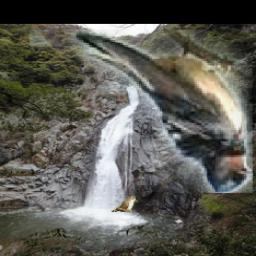Cuckoo: (112, 197, 137, 213)
Swallow: (30, 31, 253, 194)
